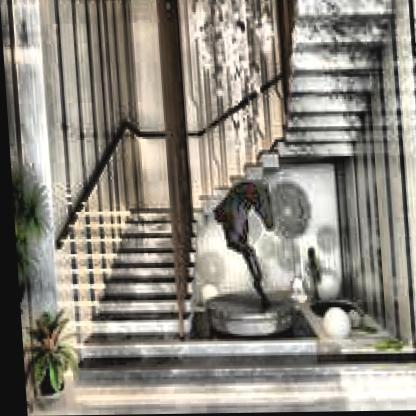stair: (83, 183, 188, 371)
